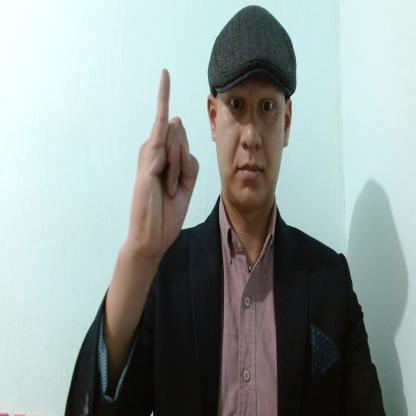I: (128, 66, 200, 254)
